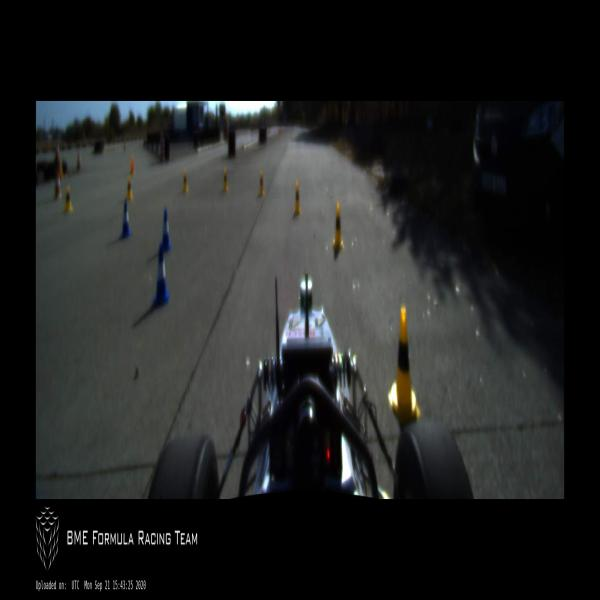blue_cone: (153, 244, 170, 307), (118, 200, 132, 238), (161, 209, 172, 253)
yellow_cone: (388, 308, 420, 428), (332, 202, 344, 251), (294, 182, 301, 216), (64, 183, 72, 212), (258, 170, 265, 196), (126, 175, 133, 199), (222, 168, 228, 194), (182, 170, 188, 193)
